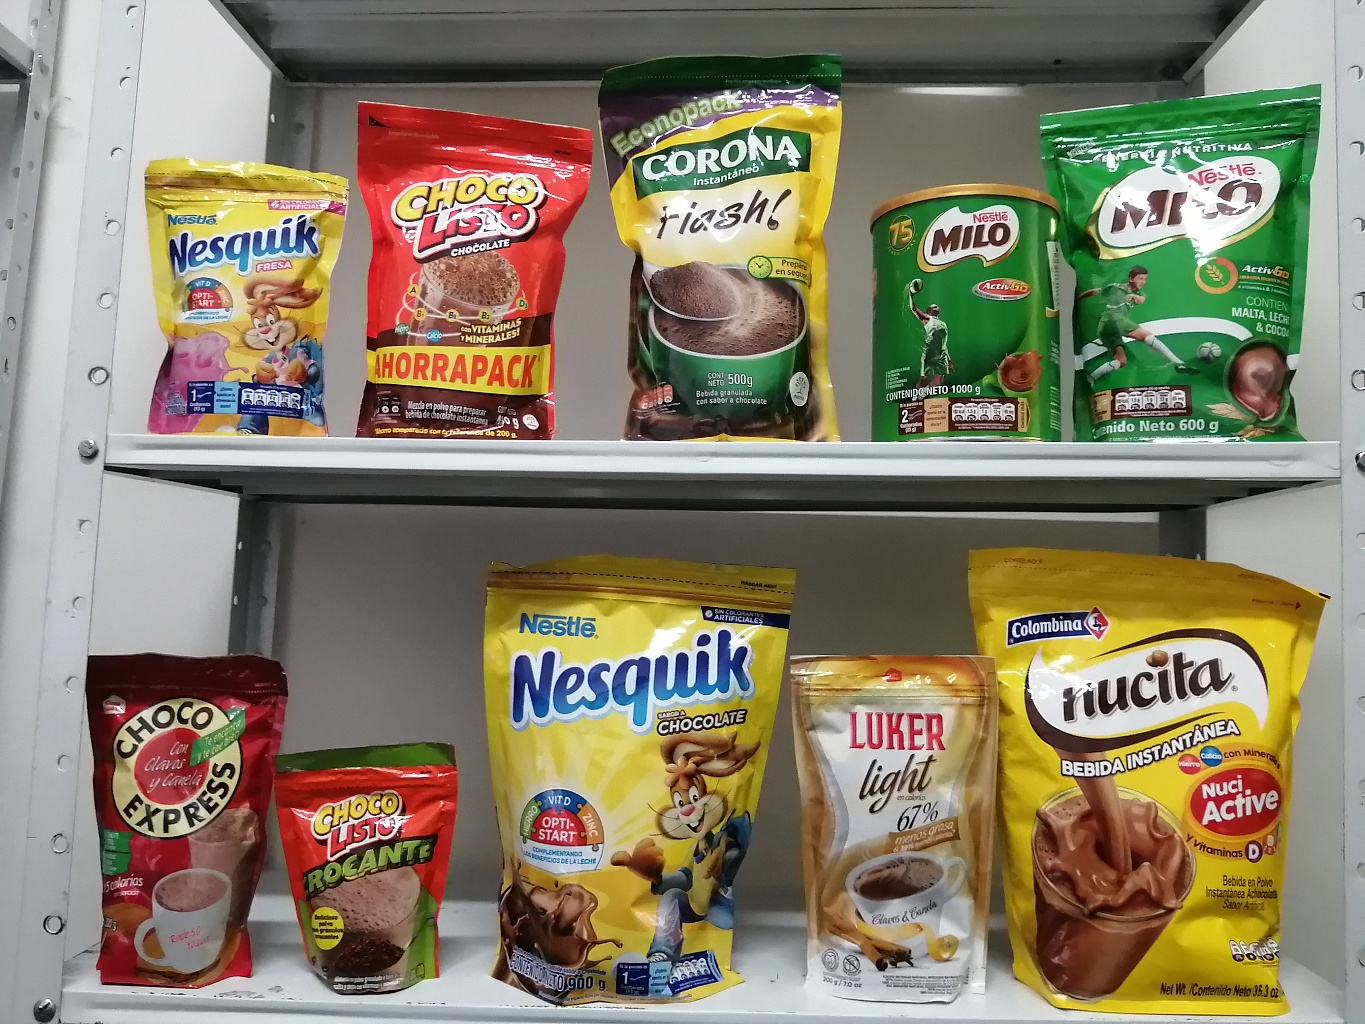COL0170102DYP10000: (268, 737, 468, 997)
COL0170103DYP40000: (345, 89, 591, 452)
COL0170305DYP20000: (143, 150, 346, 438)
